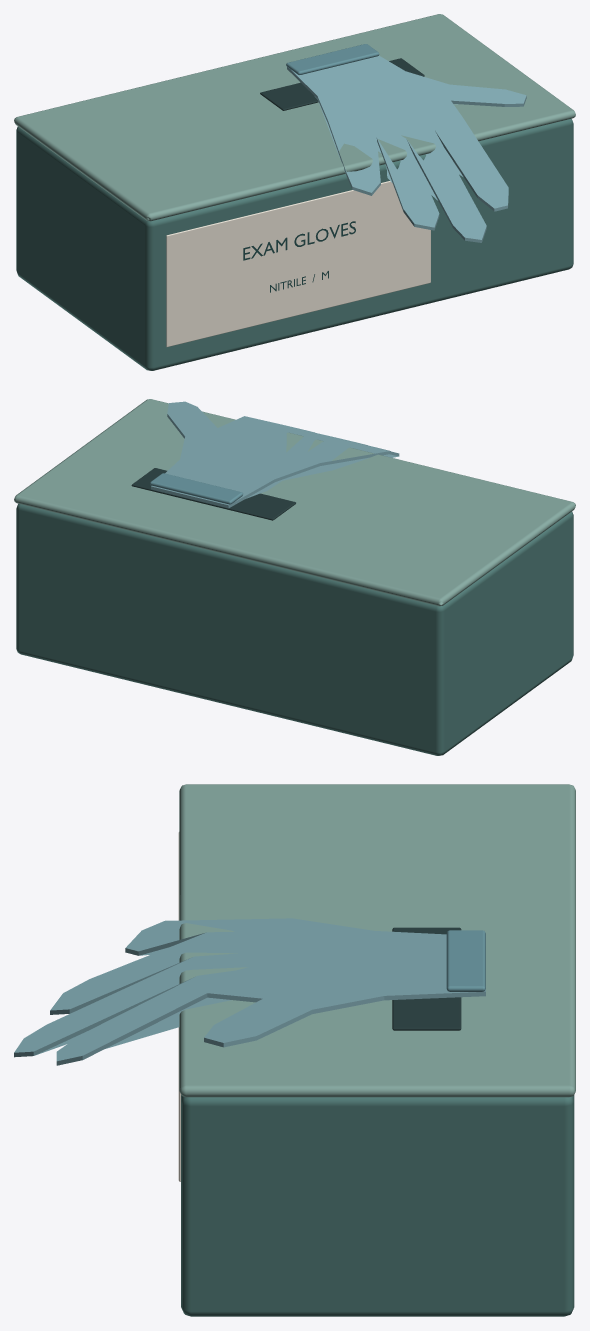
File: GloveBox.fbx
3 renders of one model, top to bottom at view 1: azimuth 30°, elevation 25°; view 2: azimuth 150°, elevation 25°; view 3: azimuth 270°, elevation 25°, orthographic. The views are drawn at different scales.
Visible parts, largest first — view 1: GloveBox_Carton, GloveBox_Lid, GloveBox_FrontPanel, GloveBox_PulledGlove, GloveBox_GloveCuff, GloveBox_Opening, GloveBox_LabelTitle; view 2: GloveBox_Carton, GloveBox_Lid, GloveBox_PulledGlove, GloveBox_Opening, GloveBox_GloveCuff; view 3: GloveBox_Lid, GloveBox_Carton, GloveBox_PulledGlove, GloveBox_Opening, GloveBox_GloveCuff.
Part boxes in pixels (x1=…): GloveBox_Carton: x1=16, y1=118, x2=573, y2=370; GloveBox_Lid: x1=14, y1=14, x2=575, y2=221; GloveBox_FrontPanel: x1=166, y1=181, x2=430, y2=347; GloveBox_PulledGlove: x1=287, y1=55, x2=526, y2=242; GloveBox_GloveCuff: x1=286, y1=44, x2=379, y2=75; GloveBox_Opening: x1=260, y1=58, x2=424, y2=110; GloveBox_LabelTitle: x1=243, y1=221, x2=355, y2=260; GloveBox_Carton: x1=16, y1=503, x2=573, y2=755; GloveBox_Lid: x1=14, y1=399, x2=575, y2=606; GloveBox_PulledGlove: x1=151, y1=401, x2=399, y2=508; GloveBox_Opening: x1=131, y1=468, x2=295, y2=520; GloveBox_GloveCuff: x1=150, y1=473, x2=242, y2=504; GloveBox_Lid: x1=179, y1=784, x2=575, y2=1097; GloveBox_Carton: x1=181, y1=1095, x2=574, y2=1316; GloveBox_PulledGlove: x1=14, y1=918, x2=485, y2=1065; GloveBox_Opening: x1=392, y1=927, x2=461, y2=1030; GloveBox_GloveCuff: x1=446, y1=930, x2=485, y2=991.
Bounding box in the file's own units: 0.221 × 0.087 × 0.1715.
